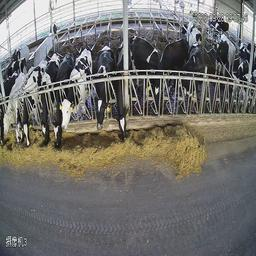cow: (131, 35, 168, 109), (60, 46, 92, 127), (114, 44, 134, 139), (172, 40, 207, 93), (97, 42, 114, 130), (23, 57, 39, 146), (40, 59, 51, 150), (54, 53, 64, 146), (4, 64, 16, 139), (231, 67, 255, 102), (13, 70, 23, 145), (211, 36, 227, 77), (180, 16, 202, 45), (186, 3, 210, 24)
